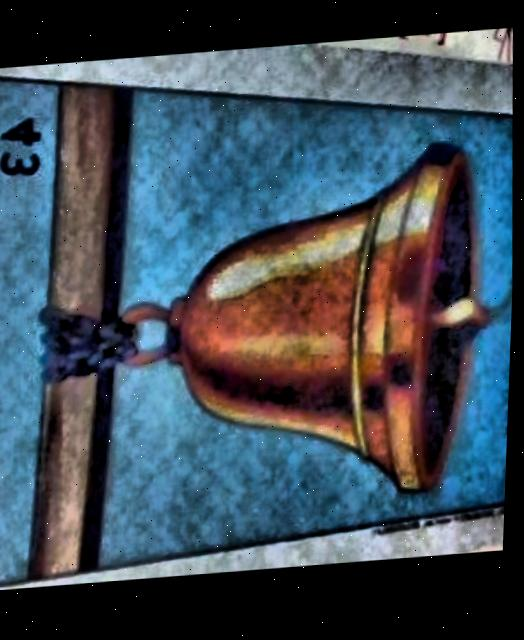La Campana: (0, 81, 515, 584)
